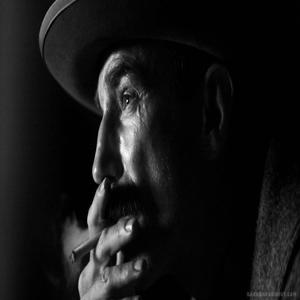cigarette: (67, 230, 102, 264)
